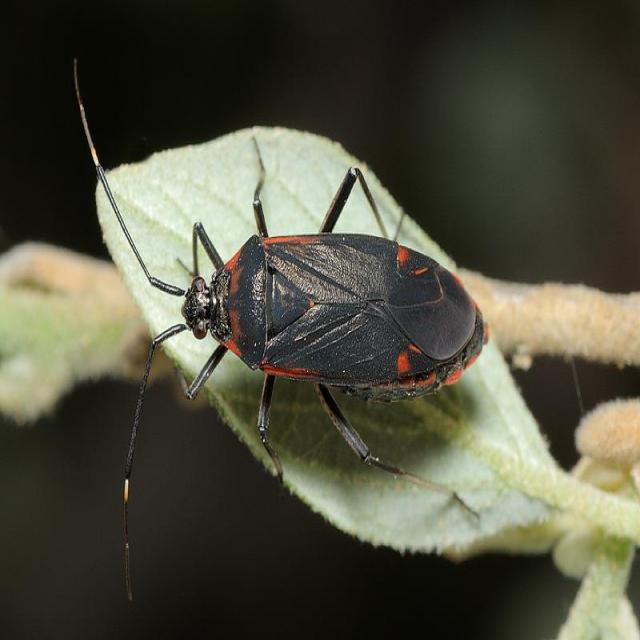Miridae-Adult-: (68, 55, 500, 529)
